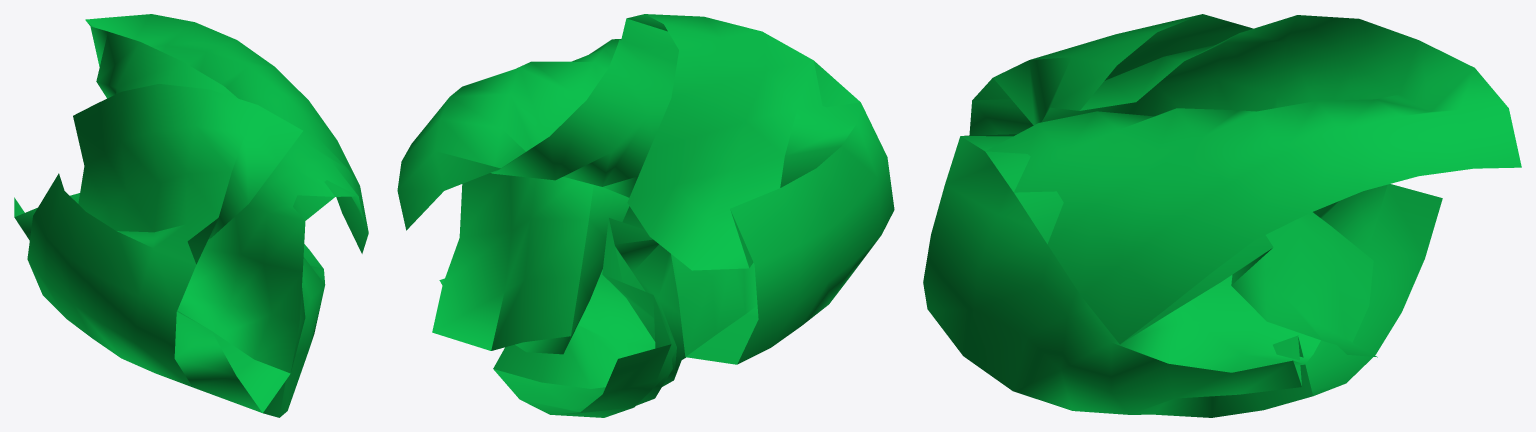
File: CandyWrapper005.glb
The picture shows the model from 3 angles, left to right: view 1: azimuth 30°, elevation 25°; view 2: azimuth 150°, elevation 25°; view 3: azimuth 270°, elevation 25°; orthographic projection. The views are drawn at different scales.
Parts seen in each view (by area): view 1: CandyWrapper005; view 2: CandyWrapper005; view 3: CandyWrapper005.
Boxes of the visible parts, x1,y1,x2,y2 form: CandyWrapper005: [14, 14, 368, 417]; CandyWrapper005: [397, 14, 894, 417]; CandyWrapper005: [923, 14, 1521, 417].
Bounding box in the file's own units: 0.1874 × 0.1941 × 0.2759.
